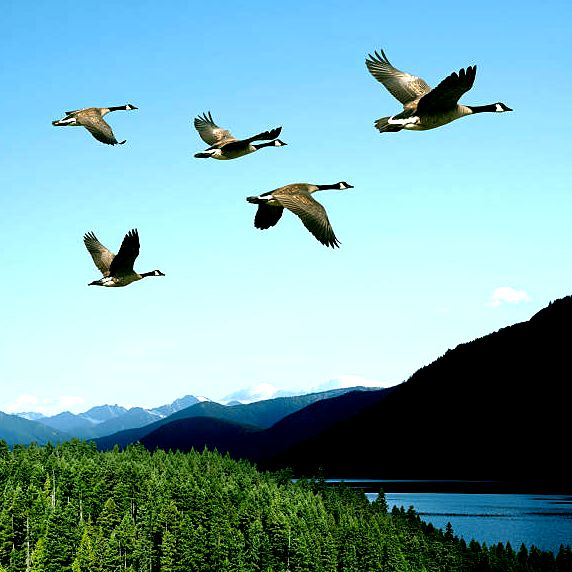Bird: (361, 46, 518, 137), (242, 176, 357, 250), (76, 226, 168, 293), (185, 108, 288, 163), (50, 99, 139, 147)
